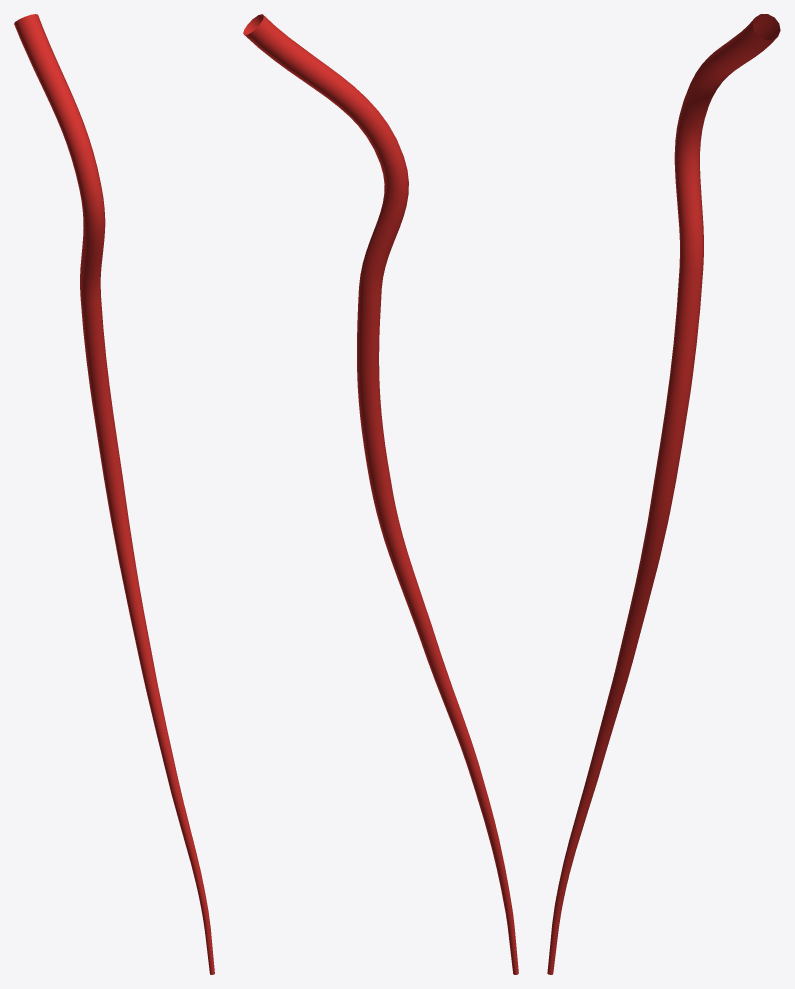
Rendered from circulatorio-thoracodorsal-vein-r.glb.
3 renders of one model, left to right at view 1: azimuth 90°, elevation 25°; view 2: azimuth 150°, elevation 25°; view 3: azimuth 270°, elevation 25°, orthographic. The views are drawn at different scales.
Visible parts, largest first — view 1: Thoracodorsal vein.r; view 2: Thoracodorsal vein.r; view 3: Thoracodorsal vein.r.
Boxes of the visible parts, x1,y1,x2,y2 form: Thoracodorsal vein.r: [14, 14, 214, 974]; Thoracodorsal vein.r: [243, 14, 518, 974]; Thoracodorsal vein.r: [547, 14, 780, 974].
Size of the model in its own units: 0.0207 by 0.1149 by 0.0234.
